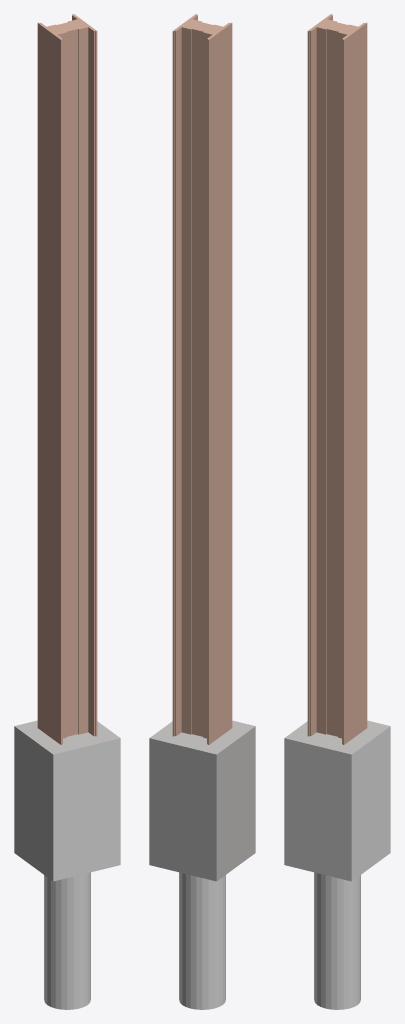
3 views of the same model, side by side, from view 1: azimuth 30°, elevation 25°; view 2: azimuth 150°, elevation 25°; view 3: azimuth 330°, elevation 25° (orthographic).
Parts seen in each view (by area): view 1: imagetostl_mesh48, imagetostl_mesh52, imagetostl_mesh43, imagetostl_mesh41, imagetostl_mesh34, imagetostl_mesh29, imagetostl_mesh45, imagetostl_mesh37, imagetostl_mesh39, imagetostl_mesh60, imagetostl_mesh33, imagetostl_mesh9 (+13 smaller); view 2: imagetostl_mesh48, imagetostl_mesh32, imagetostl_mesh26, imagetostl_mesh55, imagetostl_mesh34, imagetostl_mesh36, imagetostl_mesh50, imagetostl_mesh40, imagetostl_mesh57, imagetostl_mesh46, imagetostl_mesh33, imagetostl_mesh20 (+13 smaller); view 3: imagetostl_mesh38, imagetostl_mesh52, imagetostl_mesh43, imagetostl_mesh45, imagetostl_mesh53, imagetostl_mesh31, imagetostl_mesh41, imagetostl_mesh42, imagetostl_mesh60, imagetostl_mesh39, imagetostl_mesh33, imagetostl_mesh8 (+13 smaller).
Part boxes in pixels (x1=…): imagetostl_mesh48: x1=37, y1=23, x2=60, y2=744; imagetostl_mesh52: x1=53, y1=738, x2=120, y2=881; imagetostl_mesh43: x1=66, y1=29, x2=78, y2=736; imagetostl_mesh41: x1=79, y1=27, x2=88, y2=734; imagetostl_mesh34: x1=14, y1=726, x2=53, y2=880; imagetostl_mesh29: x1=88, y1=27, x2=93, y2=735; imagetostl_mesh45: x1=58, y1=32, x2=66, y2=738; imagetostl_mesh37: x1=94, y1=31, x2=95, y2=736; imagetostl_mesh39: x1=96, y1=31, x2=97, y2=736; imagetostl_mesh60: x1=61, y1=40, x2=62, y2=744; imagetostl_mesh33: x1=14, y1=720, x2=120, y2=754; imagetostl_mesh9: x1=73, y1=875, x2=79, y2=1009; imagetostl_mesh48: x1=209, y1=23, x2=232, y2=744; imagetostl_mesh32: x1=149, y1=738, x2=216, y2=881; imagetostl_mesh26: x1=191, y1=29, x2=203, y2=736; imagetostl_mesh55: x1=181, y1=27, x2=190, y2=734; imagetostl_mesh34: x1=216, y1=726, x2=255, y2=880; imagetostl_mesh36: x1=176, y1=27, x2=181, y2=735; imagetostl_mesh50: x1=203, y1=32, x2=211, y2=738; imagetostl_mesh40: x1=172, y1=31, x2=173, y2=736; imagetostl_mesh57: x1=174, y1=31, x2=175, y2=736; imagetostl_mesh46: x1=207, y1=40, x2=208, y2=744; imagetostl_mesh33: x1=149, y1=720, x2=255, y2=754; imagetostl_mesh20: x1=190, y1=875, x2=196, y2=1009; imagetostl_mesh38: x1=344, y1=23, x2=367, y2=744; imagetostl_mesh52: x1=284, y1=738, x2=351, y2=881; imagetostl_mesh43: x1=326, y1=29, x2=338, y2=736; imagetostl_mesh45: x1=316, y1=27, x2=325, y2=734; imagetostl_mesh53: x1=351, y1=726, x2=390, y2=880; imagetostl_mesh31: x1=311, y1=27, x2=316, y2=735; imagetostl_mesh41: x1=338, y1=32, x2=346, y2=738; imagetostl_mesh42: x1=309, y1=31, x2=310, y2=736; imagetostl_mesh60: x1=307, y1=31, x2=308, y2=736; imagetostl_mesh39: x1=342, y1=40, x2=343, y2=744; imagetostl_mesh33: x1=284, y1=720, x2=390, y2=754; imagetostl_mesh8: x1=325, y1=875, x2=331, y2=1009.
Bounding box in the file's own units: 0.3937 × 5.43 × 0.3937.
